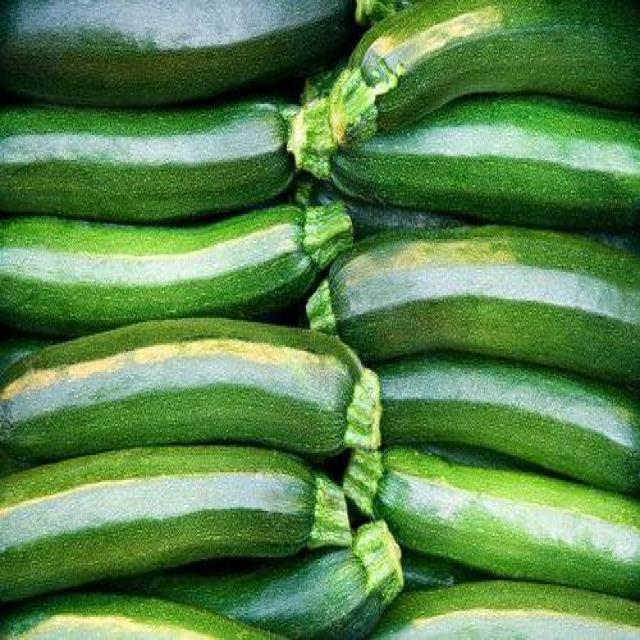Zucchini: (0, 327, 376, 449), (4, 99, 332, 214)
